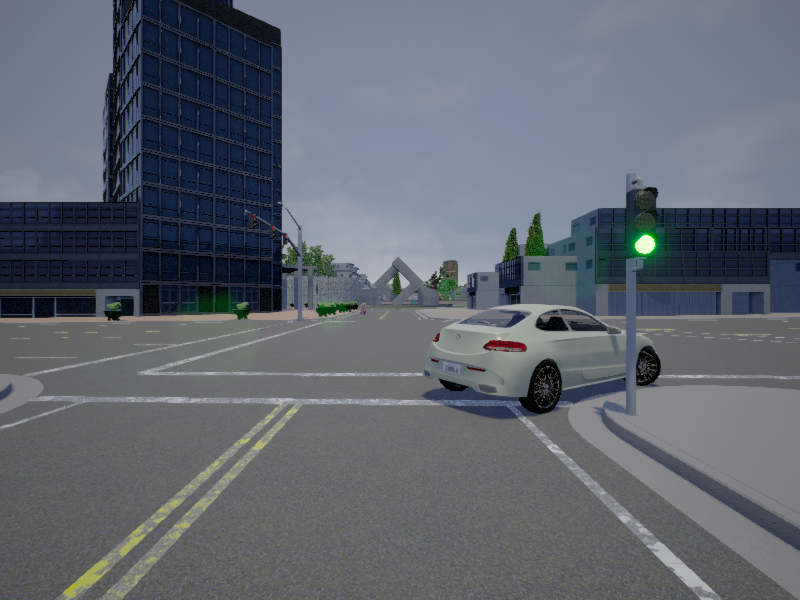Benign: (426, 303, 660, 414)
